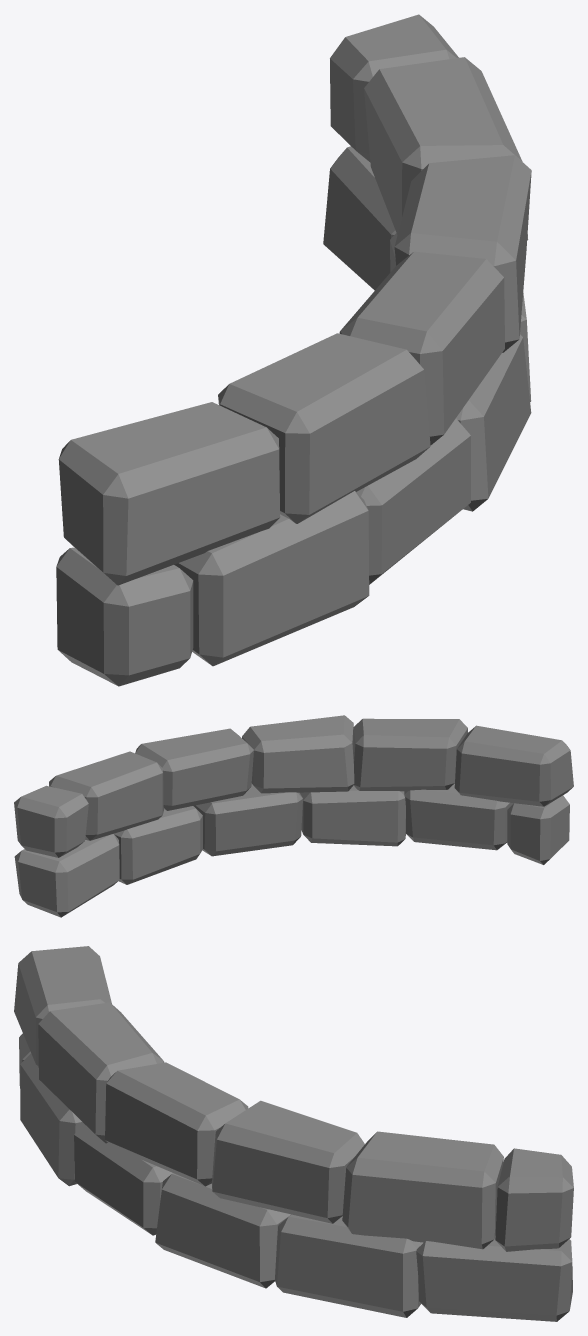
Rendered from BrickWall2mSection_01_T90_Solo.fbx.
3 views of the same model, one above another, from view 1: azimuth 30°, elevation 25°; view 2: azimuth 150°, elevation 25°; view 3: azimuth 270°, elevation 25° (orthographic). The views are drawn at different scales.
Visible parts, largest first — view 1: BrickWall2mSection_01_T90_Solo; view 2: BrickWall2mSection_01_T90_Solo; view 3: BrickWall2mSection_01_T90_Solo.
Part boxes in pixels (box(x1,y1,x2,y2)): BrickWall2mSection_01_T90_Solo: box(56, 14, 531, 686); BrickWall2mSection_01_T90_Solo: box(14, 715, 573, 917); BrickWall2mSection_01_T90_Solo: box(14, 946, 573, 1321).
Bounding box in the file's own units: 139 × 41.78 × 137.
